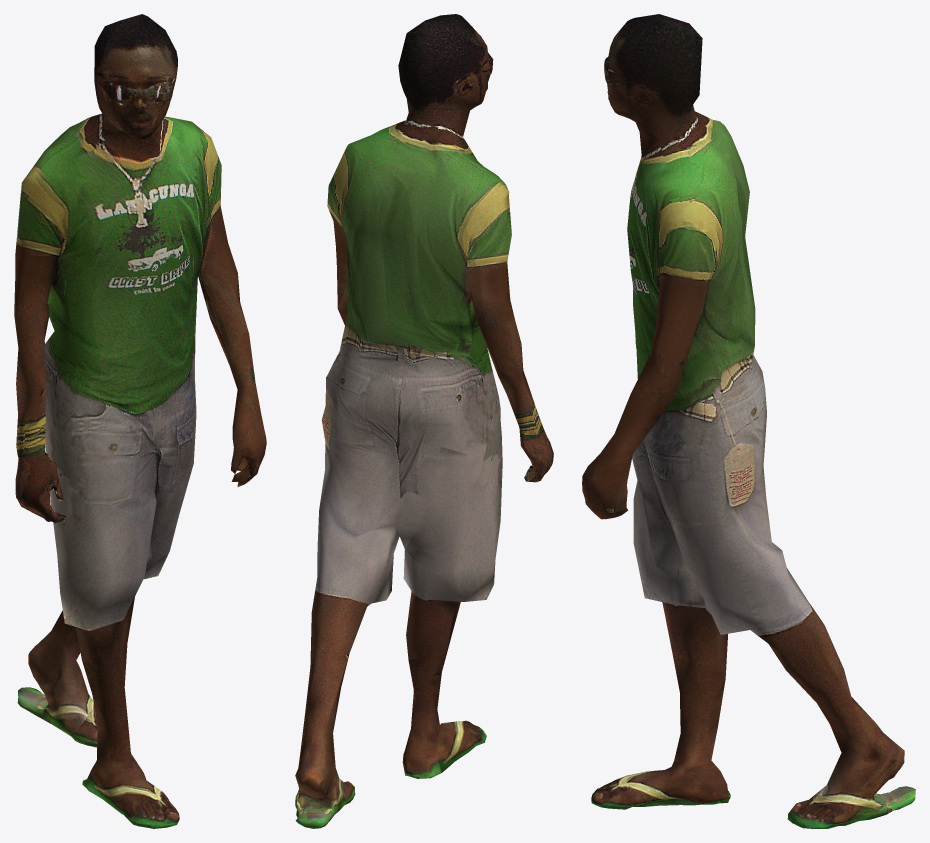
File: Person_7.obj
The picture shows the model from 3 angles, left to right: view 1: azimuth 30°, elevation 25°; view 2: azimuth 150°, elevation 25°; view 3: azimuth 270°, elevation 25°; orthographic projection. The views are drawn at different scales.
Parts seen in each view (by area): view 1: Person_7; view 2: Person_7; view 3: Person_7.
Part boxes in pixels (box(x1,y1,x2,y2)): Person_7: box(14, 14, 266, 828); Person_7: box(295, 14, 553, 828); Person_7: box(582, 14, 915, 828).
Bounding box in the file's own units: 0.5409 × 1.8 × 0.6946.
Materials: 1 (1 with a texture image).
